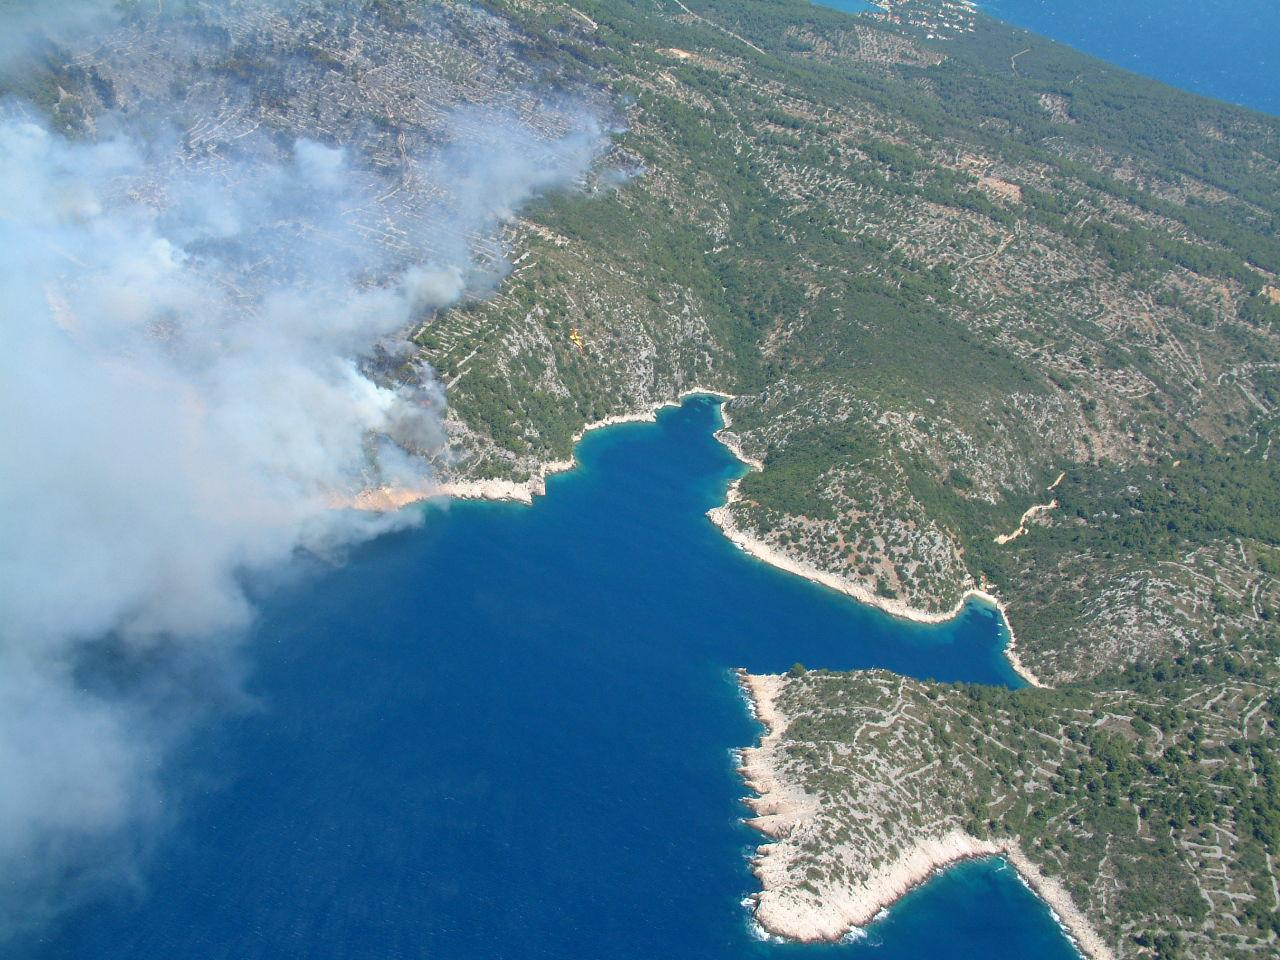Smoke: (0, 3, 648, 953)
